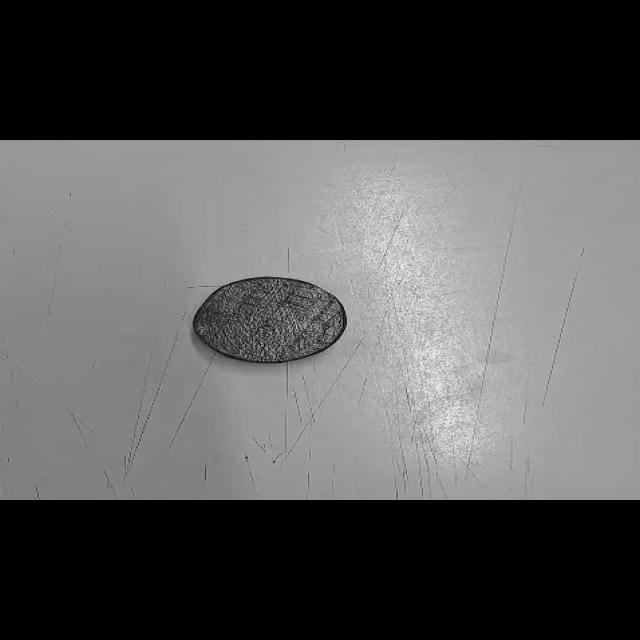rcircle: (193, 277, 346, 363)
